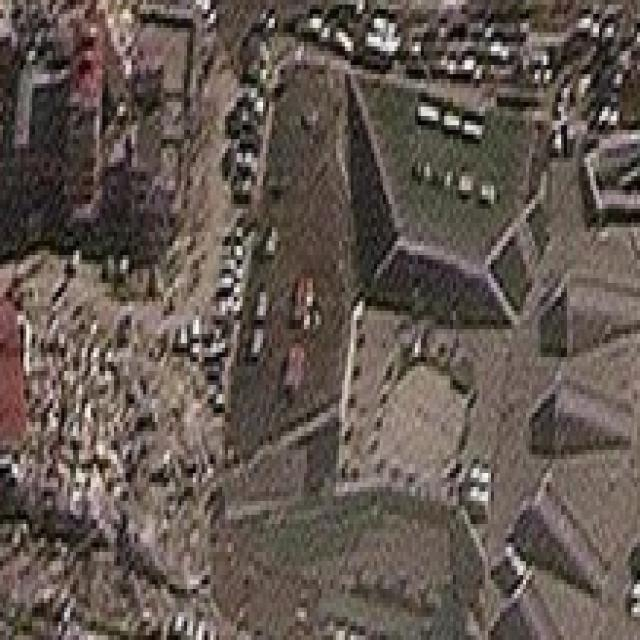Rubble: (27, 323, 221, 550), (7, 556, 210, 626)
